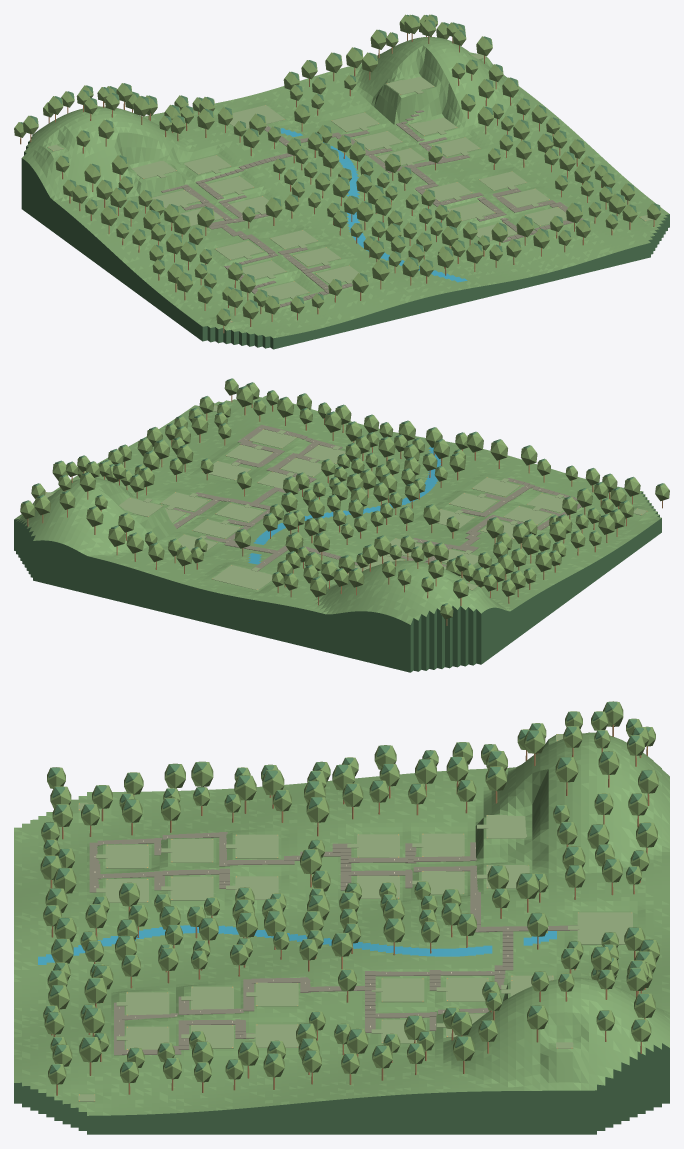
Rendered from ground.glb.
The picture shows the model from 3 angles, top to bottom: view 1: azimuth 30°, elevation 25°; view 2: azimuth 150°, elevation 25°; view 3: azimuth 270°, elevation 25°; orthographic projection. The views are drawn at different scales.
Parts seen in each view (by area): view 1: planet_jungle__Terrain, planet_jungle__Decoration, planet_jungle__Roads; view 2: planet_jungle__Terrain, planet_jungle__Decoration, planet_jungle__Roads; view 3: planet_jungle__Terrain, planet_jungle__Decoration, planet_jungle__Roads.
Part boxes in pixels (<box>): planet_jungle__Terrain: <box>21,37,669,349</box>; planet_jungle__Decoration: <box>14,14,660,333</box>; planet_jungle__Roads: <box>47,53,653,323</box>; planet_jungle__Terrain: <box>14,396,661,672</box>; planet_jungle__Decoration: <box>20,378,669,625</box>; planet_jungle__Roads: <box>45,405,647,590</box>; planet_jungle__Terrain: <box>14,732,669,1134</box>; planet_jungle__Decoration: <box>40,701,659,1095</box>; planet_jungle__Roads: <box>78,734,632,1101</box>.
Size of the model in its own units: 188 by 39.44 by 162.
